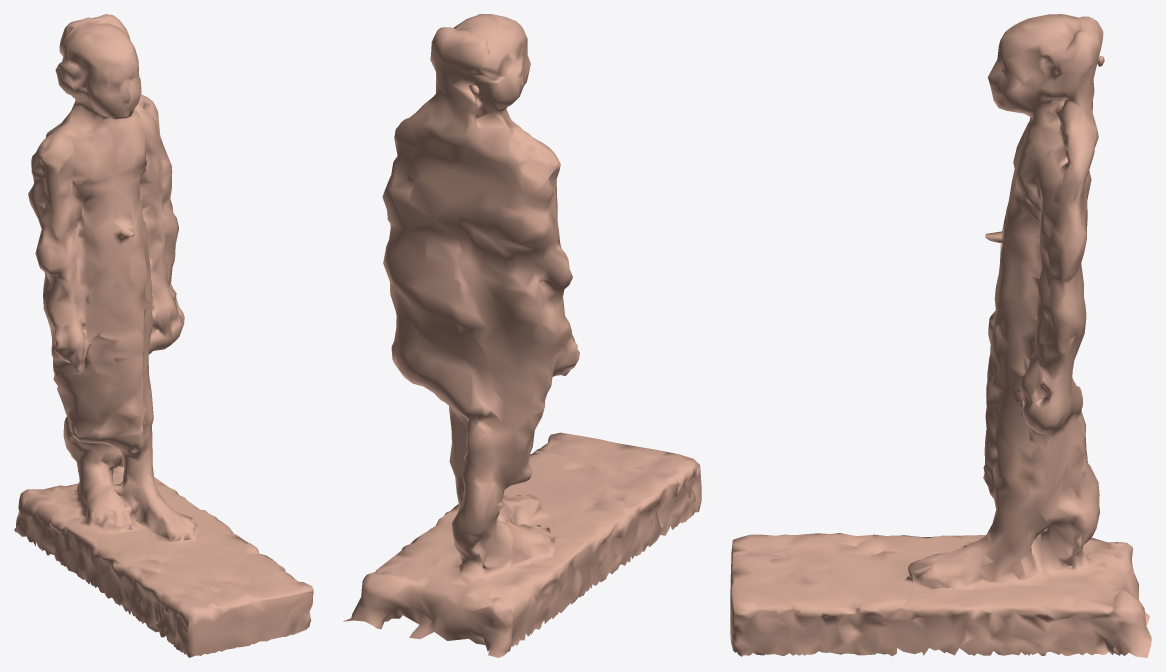
File: wc-mahg-standing-man-figurine.lod1.glb
The picture shows the model from 3 angles, left to right: view 1: azimuth 30°, elevation 25°; view 2: azimuth 150°, elevation 25°; view 3: azimuth 270°, elevation 25°; orthographic projection. The views are drawn at different scales.
Visible parts, largest first — view 1: wc-mahg-standing-man-figurine; view 2: wc-mahg-standing-man-figurine; view 3: wc-mahg-standing-man-figurine.
Part boxes in pixels (x1=…): wc-mahg-standing-man-figurine: x1=14, y1=14, x2=313, y2=657; wc-mahg-standing-man-figurine: x1=343, y1=14, x2=701, y2=657; wc-mahg-standing-man-figurine: x1=730, y1=14, x2=1151, y2=657.
Size of the model in its own units: 0.0613 by 0.1999 by 0.128.
